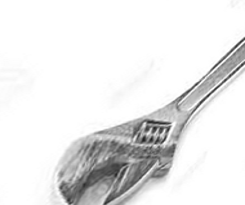Wrench: (50, 32, 245, 205)
